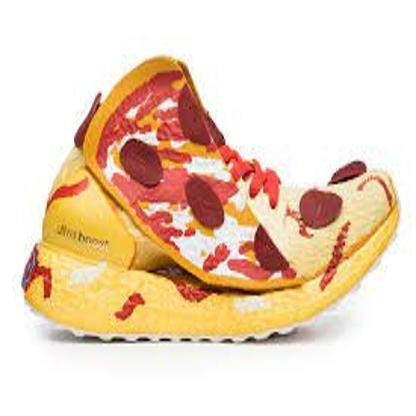not trash: (14, 55, 404, 346)
